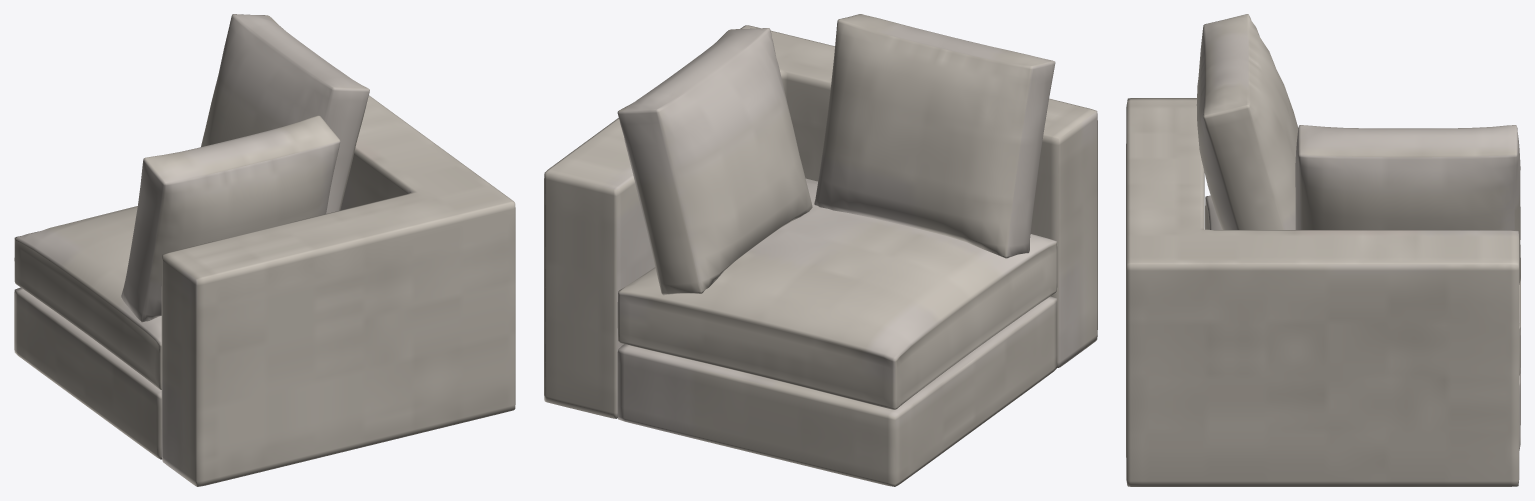
File: Sofa40.glb
3 views of the same model, side by side, from view 1: azimuth 30°, elevation 25°; view 2: azimuth 150°, elevation 25°; view 3: azimuth 270°, elevation 25° (orthographic). The views are drawn at different scales.
Parts seen in each view (by area): view 1: Sofa40_model; view 2: Sofa40_model; view 3: Sofa40_model.
Part boxes in pixels (x1,y1,x2,y2): Sofa40_model: (14,14,515,486); Sofa40_model: (544,14,1097,486); Sofa40_model: (1126,14,1520,486).
Bounding box in the file's own units: 1.8 × 1.56 × 1.8.
1 material, 1 textured.
